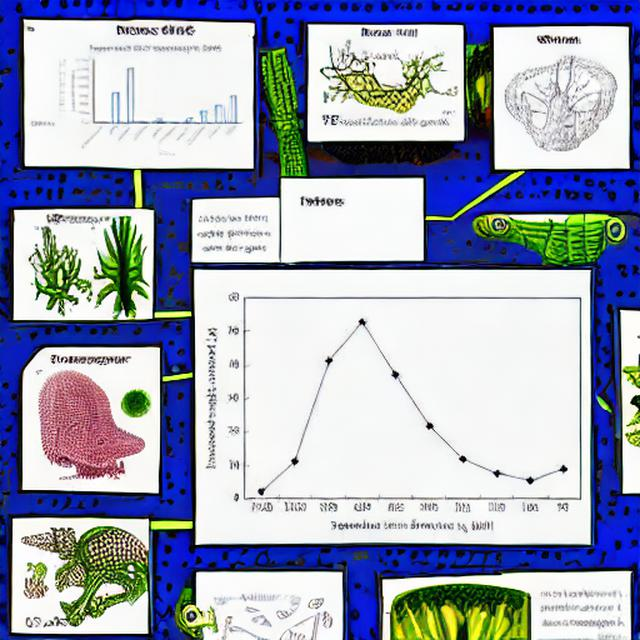Graph: (198, 284, 587, 537), (65, 40, 245, 161)
